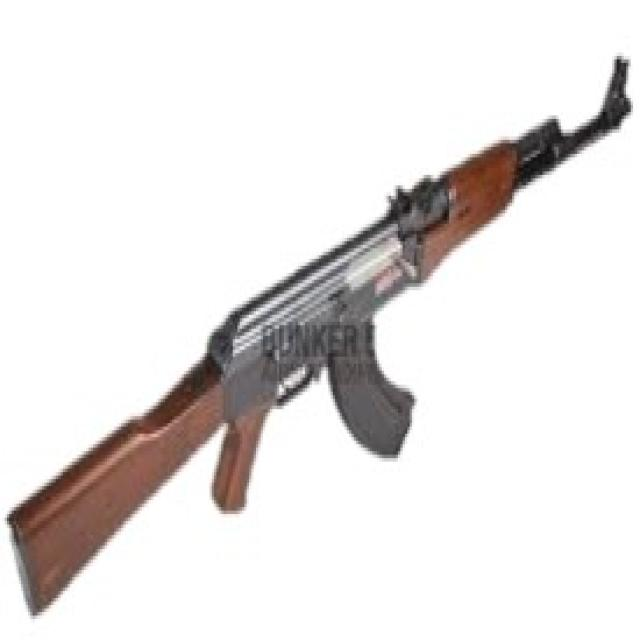rifle: (6, 40, 640, 626)
